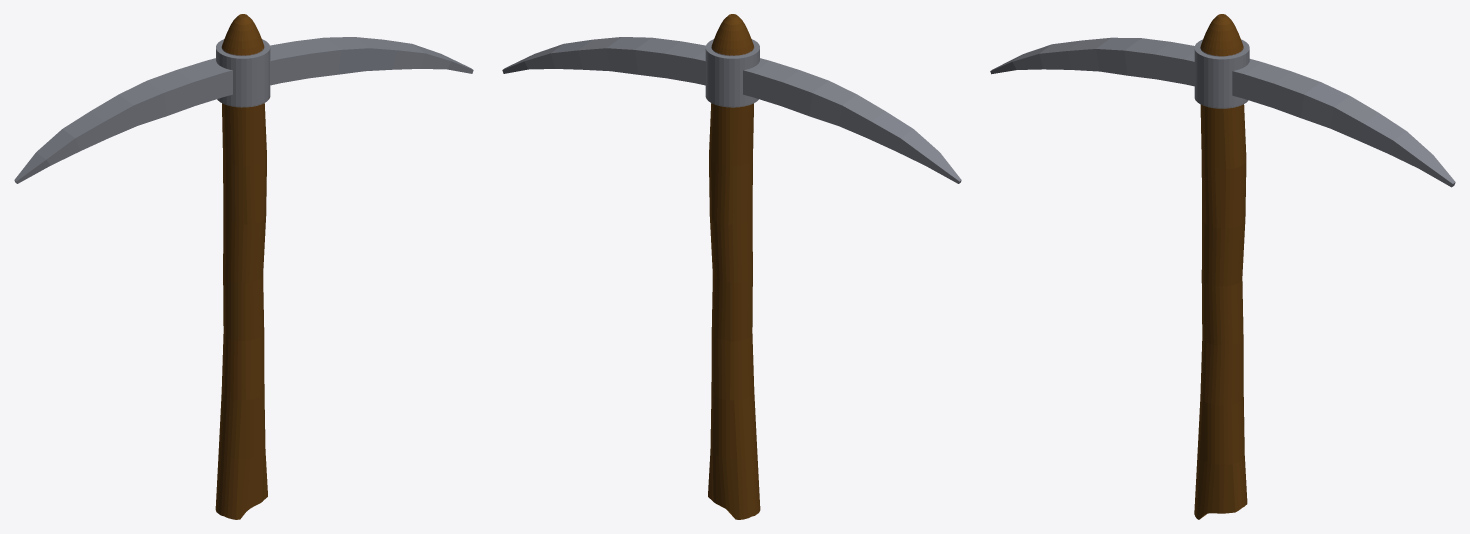
File: Pico.fbx
3 renders of one model, left to right at view 1: azimuth 30°, elevation 25°; view 2: azimuth 150°, elevation 25°; view 3: azimuth 330°, elevation 25°, orthographic.
Visible parts, largest first — view 1: Cilindro, Cubo.002; view 2: Cilindro, Cubo.002; view 3: Cilindro, Cubo.002.
Boxes of the visible parts, left/top/right/bottom form: Cilindro: left=215, top=14, right=270, bottom=519; Cubo.002: left=14, top=37, right=473, bottom=183; Cilindro: left=705, top=14, right=760, bottom=519; Cubo.002: left=502, top=37, right=961, bottom=183; Cilindro: left=1194, top=14, right=1249, bottom=519; Cubo.002: left=990, top=37, right=1455, bottom=187.
Bounding box in the file's own units: 49.17 × 50.76 × 5.08.
2 materials, 2 textured.
